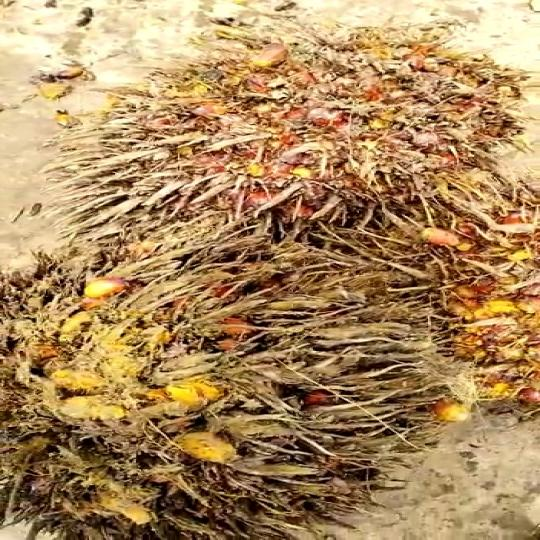terlalu masak: (0, 216, 414, 540), (67, 23, 539, 231)
